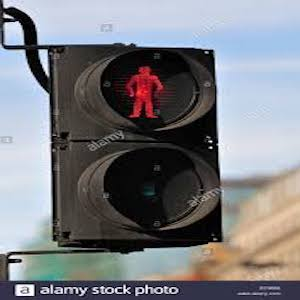red: (118, 61, 164, 120)
